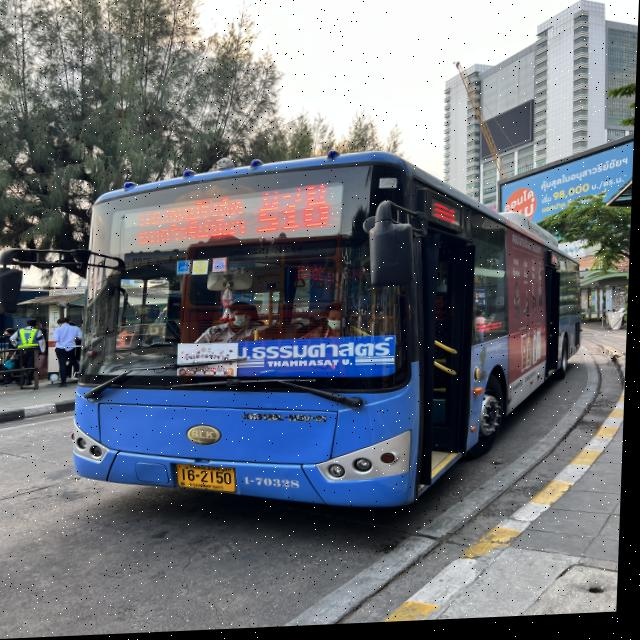BMTA-bus: (75, 156, 583, 516)
Bus Line Number: (251, 183, 342, 243)
Bus Side Number: (243, 467, 314, 499)
Destination Sign: (235, 339, 399, 387)
